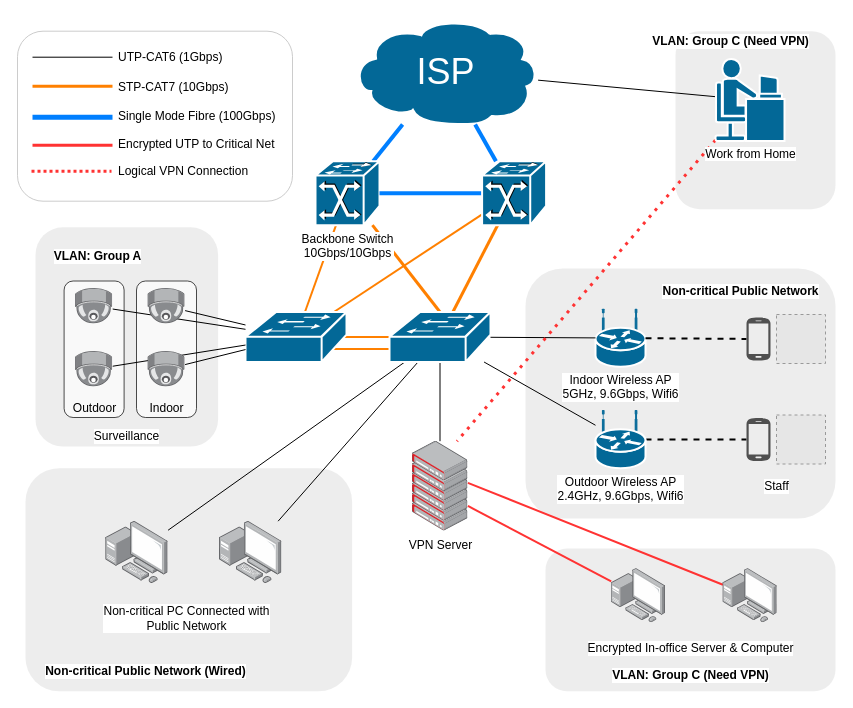
This 853x708 diagram has some shape labels left out. Grey dashed boxes stand in for pictures. The shapes that lost their labels are listed below. From the top down, each one's centre as x and y in pixels, then its label:
At point 514,193: "Backbone Switch (Redundancy) 10Gbps/10Gbps".
At point 295,336: "POE Switch Router 1Gbps/10Gbps".
At point 439,336: "Switch Router 1Gbps/10Gbps".
